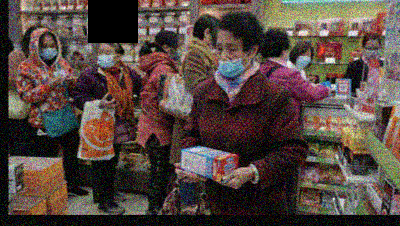mask_weared_incorrect: (215, 38, 249, 78)
with_mask: (95, 47, 115, 68), (36, 39, 56, 60), (362, 43, 380, 59), (167, 41, 180, 61), (297, 50, 310, 66)
